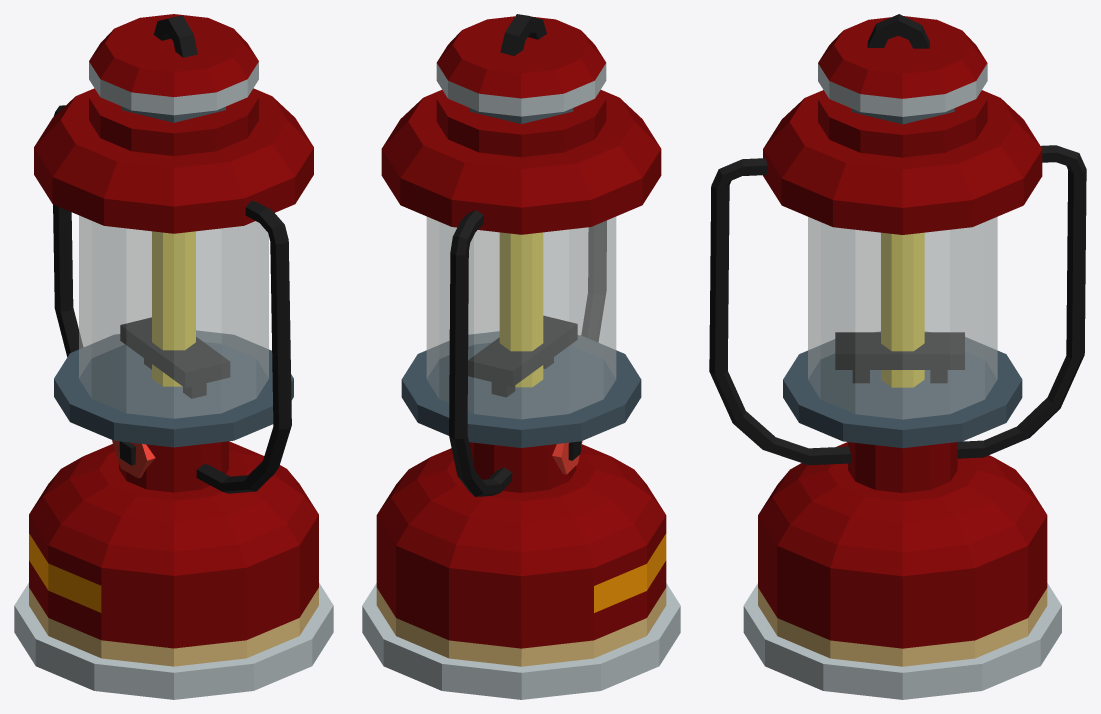
Rendered from Halogen_lantern.glb.
3 views of the same model, side by side, from view 1: azimuth 30°, elevation 25°; view 2: azimuth 150°, elevation 25°; view 3: azimuth 270°, elevation 25° (orthographic).
Visible parts, largest first — view 1: group292639347; view 2: group292639347; view 3: group292639347.
Boxes of the visible parts, left/top/right/bottom form: group292639347: left=14, top=14, right=333, bottom=699; group292639347: left=362, top=14, right=680, bottom=699; group292639347: left=709, top=14, right=1086, bottom=699.
Size of the model in its own units: 0.319 by 0.6804 by 0.3781.
